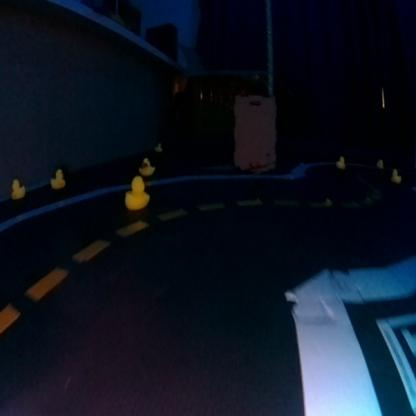duckie: (120, 174, 156, 213), (7, 172, 36, 213), (48, 155, 72, 194), (136, 152, 154, 178), (388, 163, 405, 186), (333, 146, 345, 175)
